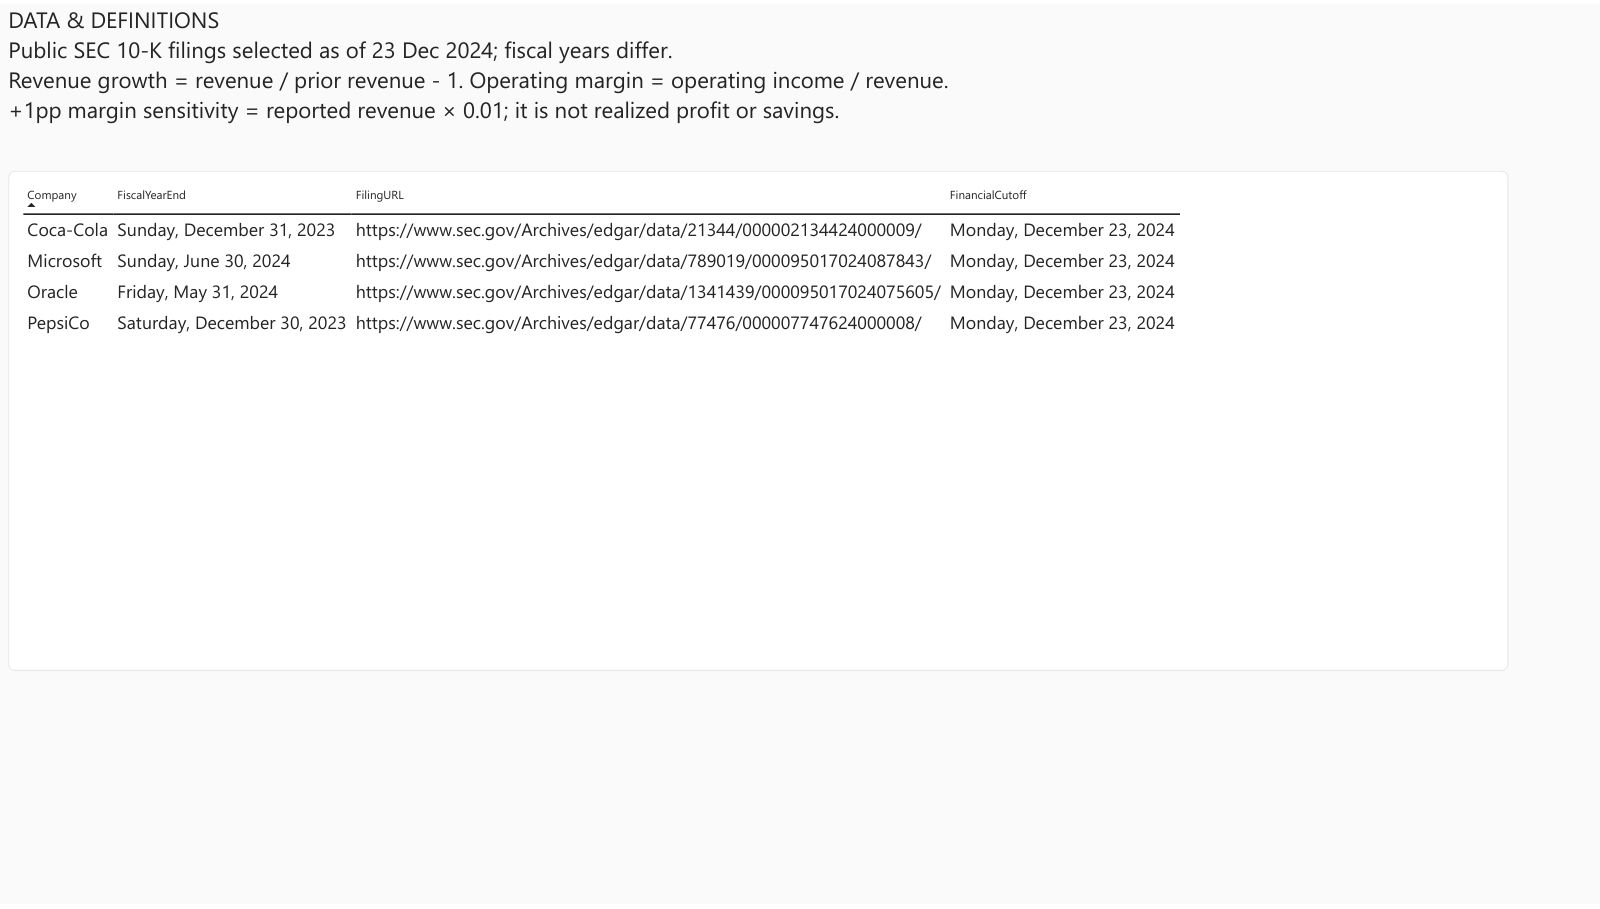

The dashboard page shown, as its layout file describes it:
{"tool":"powerbi","page":{"name":"Sources & definitions","canvas":[1920,1080],"ordinal":2},"visuals":[{"type":"tableEx","fields":{"Values":["Financials.Company","Financials.FiscalYearEnd","Financials.FilingURL","Financials.FinancialCutoff"]},"box":[10,200,1800,600],"z":0},{"type":"textbox","box":[10,0,1800,170],"z":1}]}

Visuals, with their boxes in screenshot pixels (x1, y1, x2, y2), scaled from the page's 1920x1080 canvas onto the 1600x909 screenshot:
tableEx - Financials.Company x Financials.FiscalYearEnd: pyautogui.locateOnScreen(8, 168, 1508, 673)
textbox: pyautogui.locateOnScreen(8, 0, 1508, 143)
